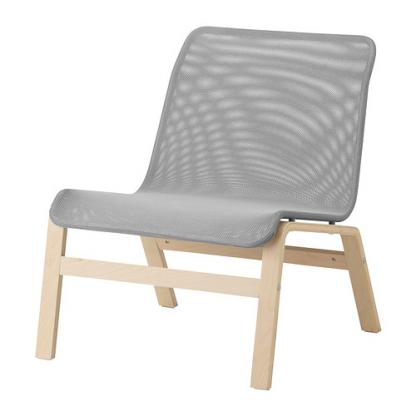Chair: (34, 25, 383, 394)
